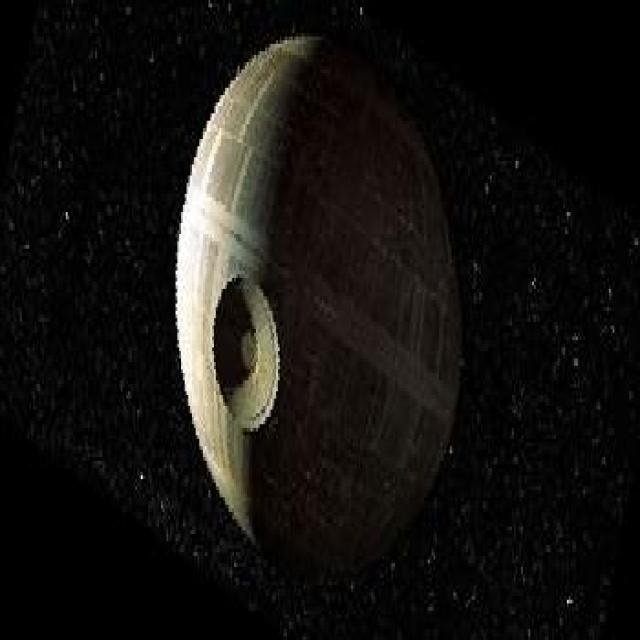Death Star: (170, 22, 466, 585)
